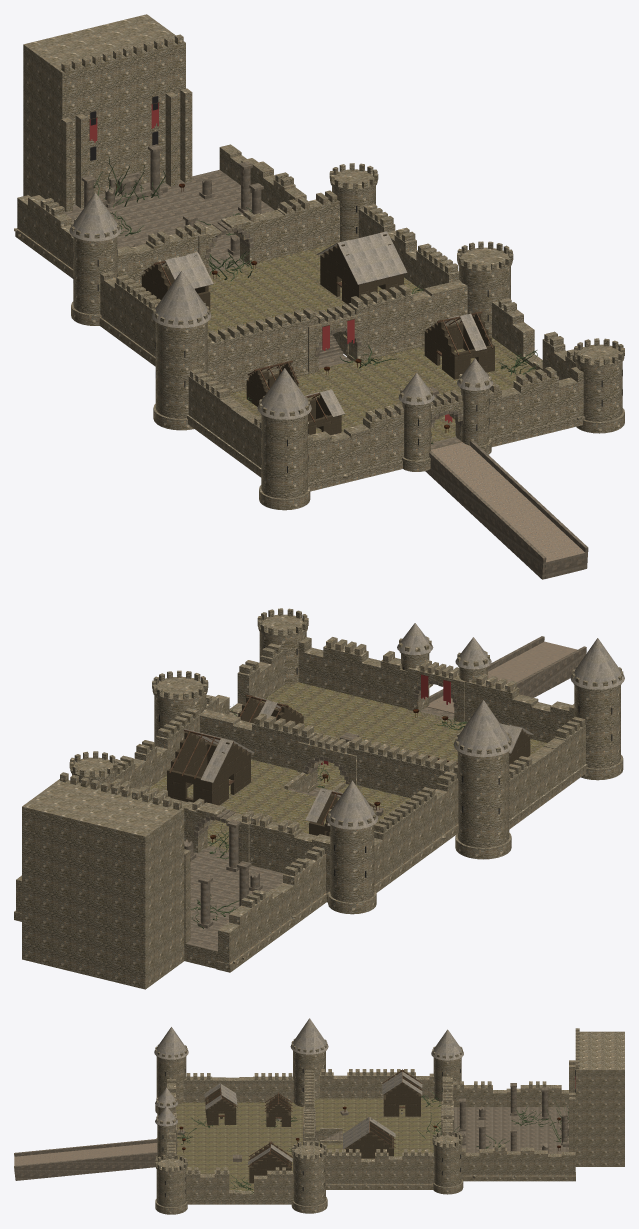
Rendered from level.glb.
3 views of the same model, one above another, from view 1: azimuth 30°, elevation 25°; view 2: azimuth 150°, elevation 25°; view 3: azimuth 270°, elevation 25° (orthographic). The views are drawn at different scales.
Visible parts, largest first — view 1: KeepTower, Road, BaileyFloor, WardFloor, TowerNW, ArenaFloor, TowerSW, InnerWallW, SouthWallE, InnerWallE, SouthWallW, WestWall (+22 smaller); view 2: KeepTower, BaileyFloor, TowerNW, ArenaWallW, WardWallW, TowerWardW, SouthWallE, TowerSW, Barracks, WestWall, ArenaFloor, InnerWallW (+23 smaller); view 3: KeepTower, BaileyFloor, WardWallE, Road, ArenaFloor, ArenaWallE, WardFloor, WestWall, TowerNE, WardWallW, ArenaWallW, TowerNW (+18 smaller).
Boxes of the visible parts, <box> form: KeepTower: <box>23,14,192,211</box>; Road: <box>425,441,588,579</box>; BaileyFloor: <box>230,337,535,442</box>; WardFloor: <box>194,243,422,335</box>; TowerNW: <box>152,270,211,430</box>; ArenaFloor: <box>64,170,274,266</box>; TowerSW: <box>257,368,311,510</box>; InnerWallW: <box>207,307,319,393</box>; SouthWallE: <box>456,367,585,446</box>; InnerWallE: <box>347,280,467,362</box>; SouthWallW: <box>308,403,403,491</box>; WestWall: <box>187,368,261,477</box>; KeepTower: <box>22,772,190,989</box>; BaileyFloor: <box>260,682,546,789</box>; TowerNW: <box>453,700,513,859</box>; ArenaWallW: <box>216,846,326,972</box>; WardWallW: <box>374,771,458,892</box>; TowerWardW: <box>326,780,378,914</box>; SouthWallE: <box>298,637,423,711</box>; TowerSW: <box>570,638,624,780</box>; Barracks: <box>167,729,254,805</box>; WestWall: <box>509,716,587,829</box>; ArenaFloor: <box>184,852,283,968</box>; InnerWallW: <box>347,736,457,798</box>; KeepTower: <box>569,1028,624,1166</box>; BaileyFloor: <box>176,1102,303,1190</box>; WardWallE: <box>326,1149,434,1189</box>; Road: <box>14,1139,157,1180</box>; ArenaFloor: <box>454,1107,568,1153</box>; ArenaWallE: <box>461,1144,575,1181</box>; WardFloor: <box>342,1098,441,1156</box>; WestWall: <box>183,1073,293,1102</box>; TowerNE: <box>291,1140,327,1213</box>; WardWallW: <box>320,1069,434,1098</box>; ArenaWallW: <box>452,1081,568,1106</box>; TowerNW: <box>290,1018,328,1107</box>.
Size of the model in its own units: 64.15 by 34.09 by 148.
11 materials, 8 textured.
